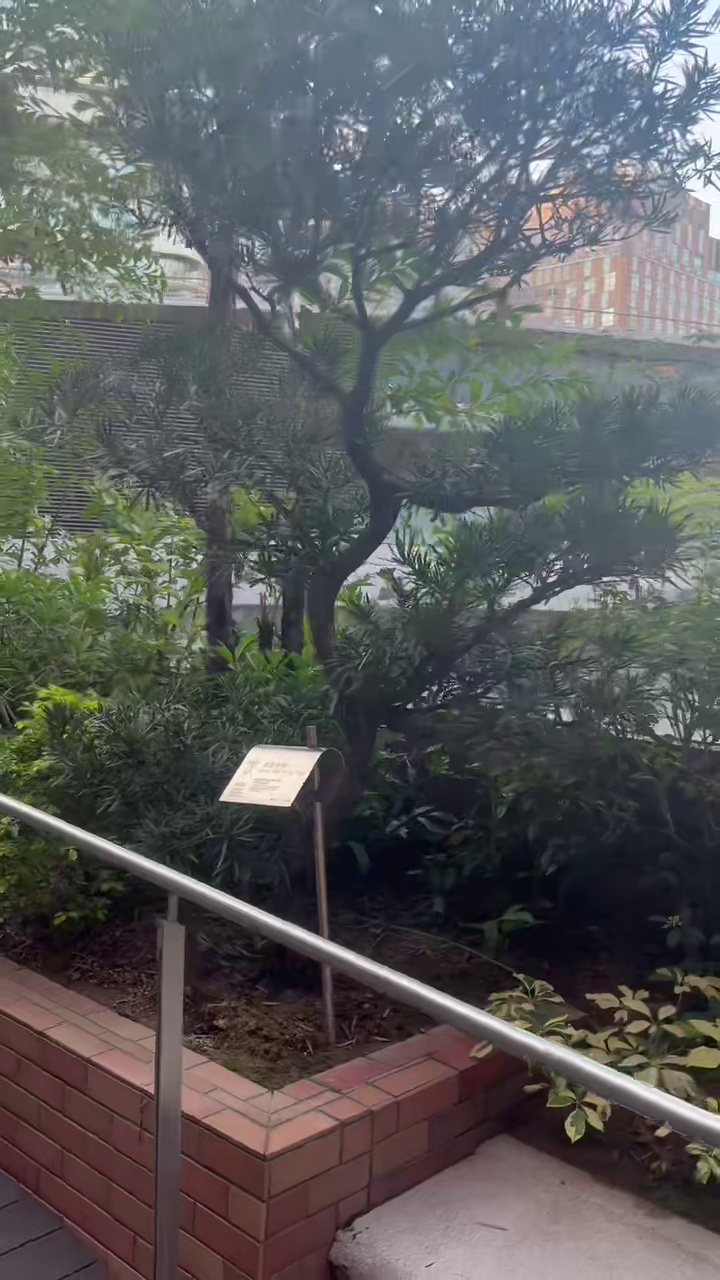Podocarpus macrophyllus: (17, 0, 719, 789)
